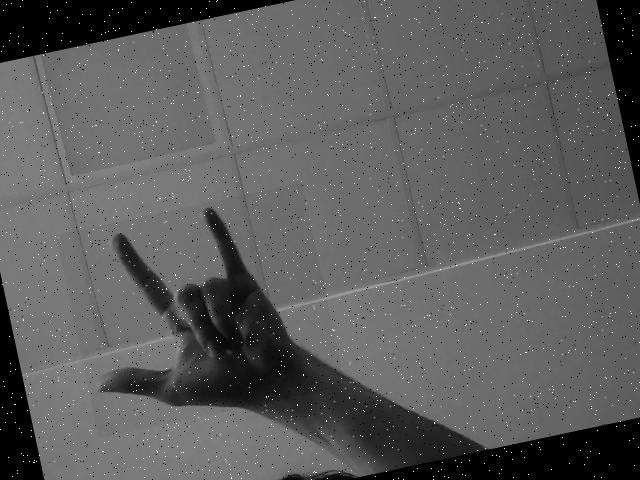I_Love_You: (55, 183, 345, 438)
